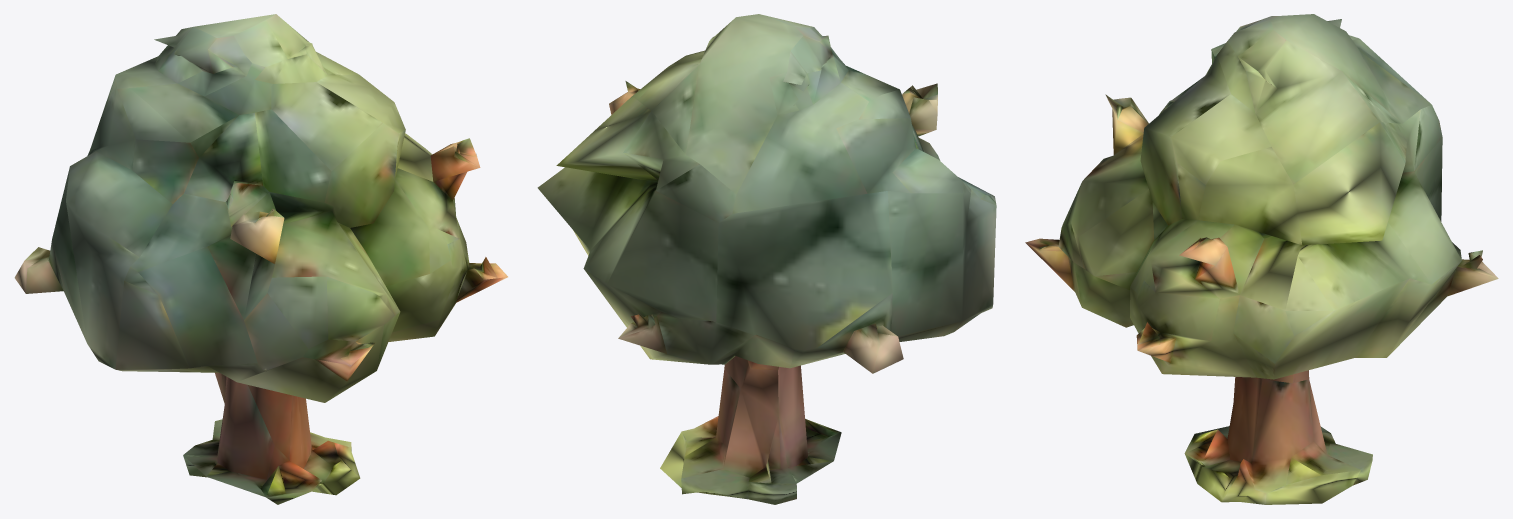
Rendered from orchard_tree.glb.
3 renders of one model, left to right at view 1: azimuth 30°, elevation 25°; view 2: azimuth 150°, elevation 25°; view 3: azimuth 270°, elevation 25°, orthographic. The views are drawn at different scales.
Parts seen in each view (by area): view 1: tripo_node_62923ce2-dc75-485b-986d-a13acacc2d3d; view 2: tripo_node_62923ce2-dc75-485b-986d-a13acacc2d3d; view 3: tripo_node_62923ce2-dc75-485b-986d-a13acacc2d3d.
Part boxes in pixels (<box>): tripo_node_62923ce2-dc75-485b-986d-a13acacc2d3d: <box>14,14,507,504</box>; tripo_node_62923ce2-dc75-485b-986d-a13acacc2d3d: <box>537,14,996,504</box>; tripo_node_62923ce2-dc75-485b-986d-a13acacc2d3d: <box>1025,14,1498,504</box>.
Bounding box in the file's own units: 0.893 × 0.9719 × 0.9458.
Materials: 1 (1 with a texture image).
